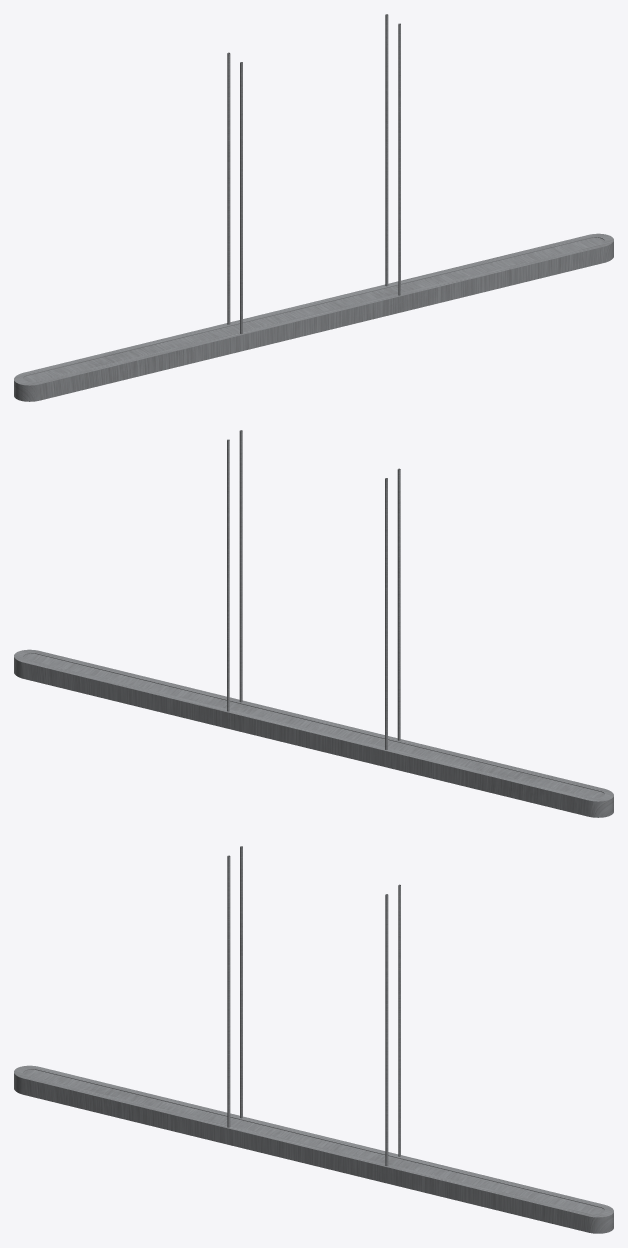
The model's file is ceiling_lamp_mnr0031.glb.
The picture shows the model from 3 angles, top to bottom: view 1: azimuth 30°, elevation 25°; view 2: azimuth 150°, elevation 25°; view 3: azimuth 330°, elevation 25°; orthographic projection.
Parts seen in each view (by area): view 1: ArtemidDeckenleuchte.002; view 2: ArtemidDeckenleuchte.002; view 3: ArtemidDeckenleuchte.002.
Boxes of the visible parts, <box> form: ArtemidDeckenleuchte.002: <box>14,14,613,401</box>; ArtemidDeckenleuchte.002: <box>14,430,613,817</box>; ArtemidDeckenleuchte.002: <box>14,846,613,1233</box>.
Size of the model in its own units: 1.51 by 0.6944 by 0.07.
2 materials, 1 textured.
